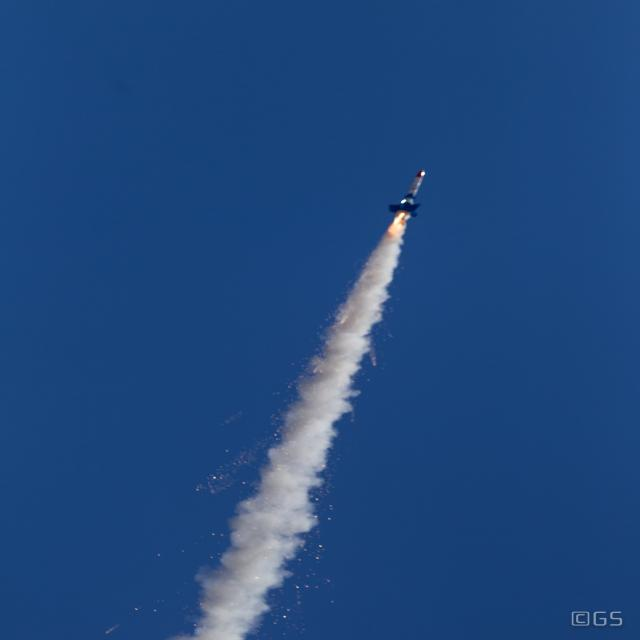Rocket: (388, 168, 426, 218)
